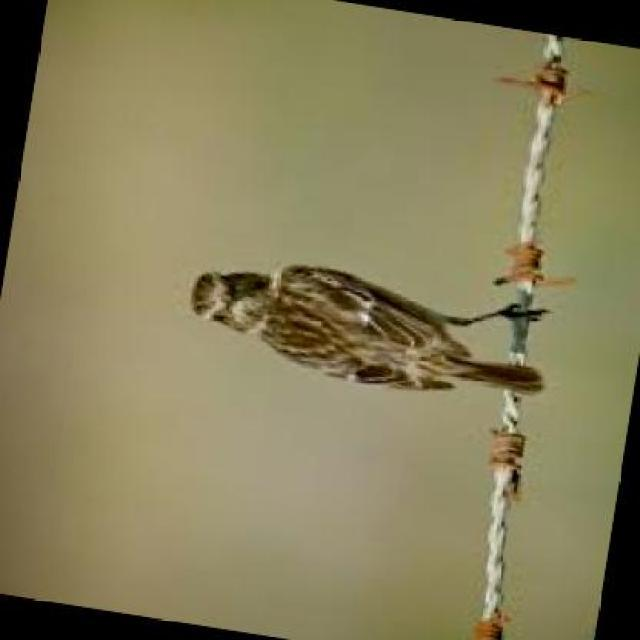Bird: (178, 255, 549, 405)
